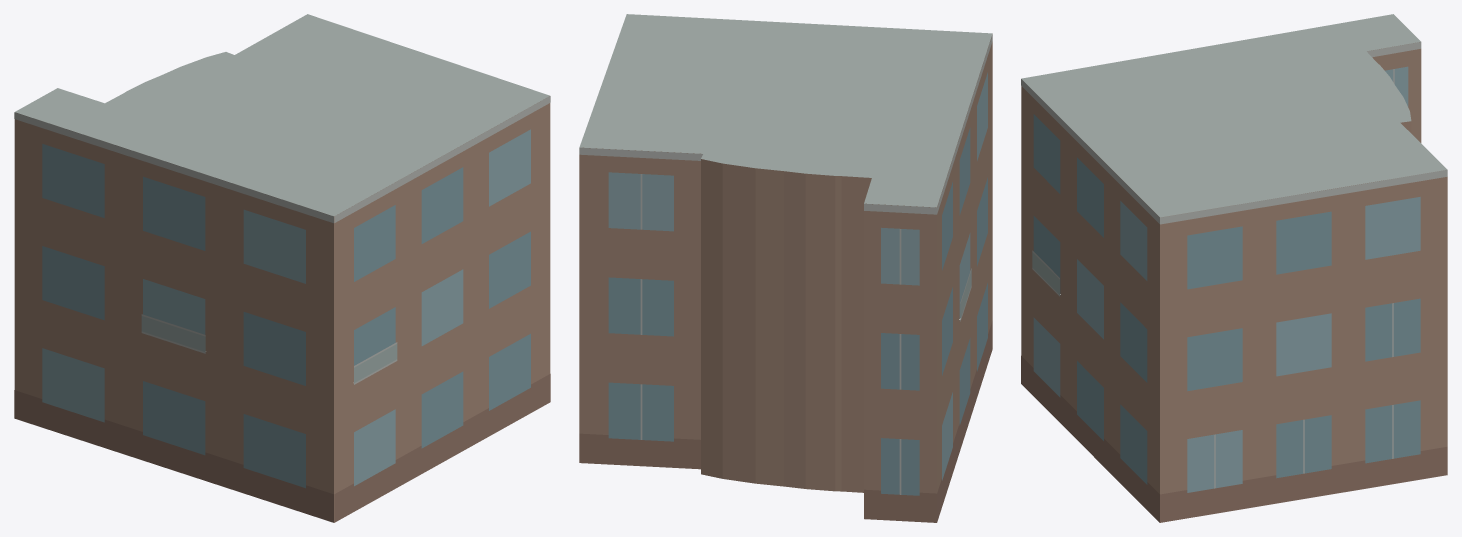
The model's file is survey-upis-32860579.glb.
3 views of the same model, side by side, from view 1: azimuth 30°, elevation 25°; view 2: azimuth 150°, elevation 25°; view 3: azimuth 270°, elevation 25° (orthographic). The views are drawn at different scales.
Visible parts, largest first — view 1: survey-upis-32860579.tmp; view 2: survey-upis-32860579.tmp; view 3: survey-upis-32860579.tmp.
Part boxes in pixels (x1,y1,x2,y2): survey-upis-32860579.tmp: (14,14,550,522); survey-upis-32860579.tmp: (579,14,992,522); survey-upis-32860579.tmp: (1021,14,1447,522).
Size of the model in its own units: 15.31 by 10.7 by 13.56.
